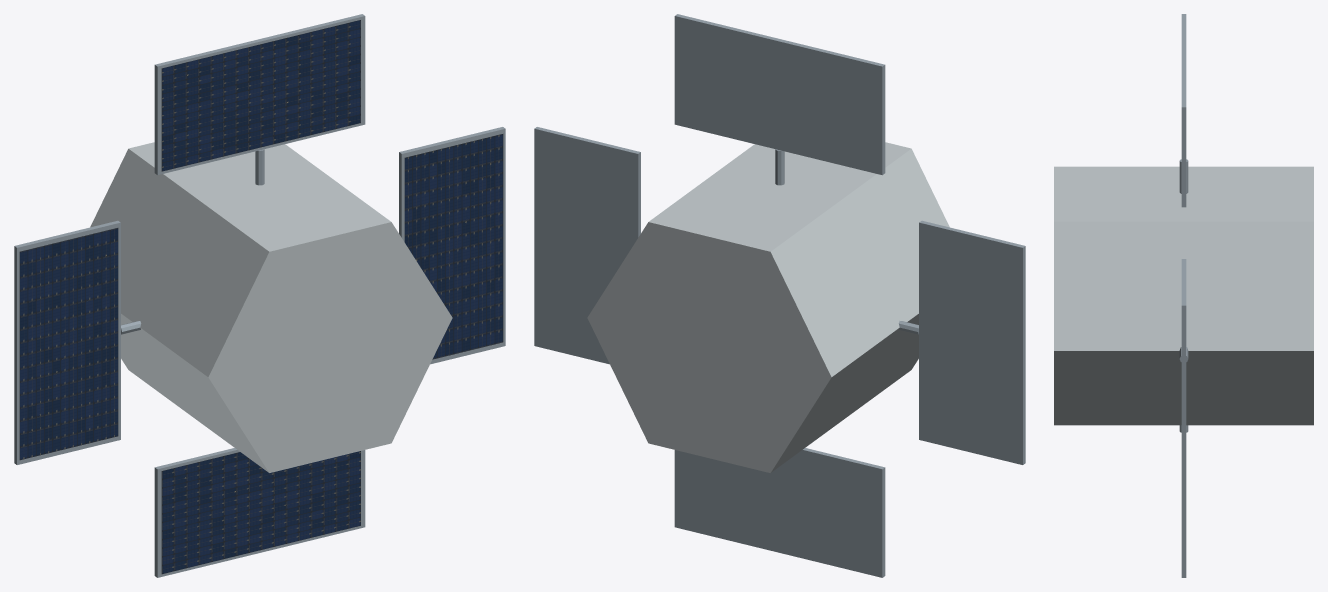
The model's file is ref-ss-400-41169.glb.
3 renders of one model, left to right at view 1: azimuth 30°, elevation 25°; view 2: azimuth 150°, elevation 25°; view 3: azimuth 270°, elevation 25°, orthographic. The views are drawn at different scales.
Parts seen in each view (by area): view 1: Spacecraft body, Photovoltaic laminates (×4), Array frame (×4); view 2: Array frame (×4), Spacecraft body; view 3: Spacecraft body, Array frame (×3).
Boxes of the visible parts, x1,y1,x2,y2 form: Spacecraft body: (90,142,452,472); Photovoltaic laminates (×4): (19,20,503,574); Array frame (×4): (14,14,505,577); Array frame (×4): (534,14,1025,577); Spacecraft body: (587,142,949,472); Spacecraft body: (1054,166,1313,425); Array frame (×3): (1181,14,1186,577).
Size of the model in its own units: 4 by 4 by 2.
3 materials, 1 textured.
